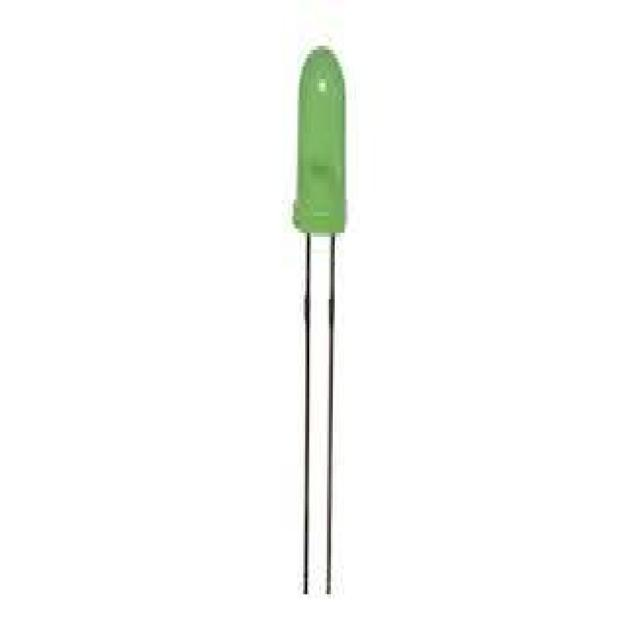Led: (294, 48, 345, 595)
